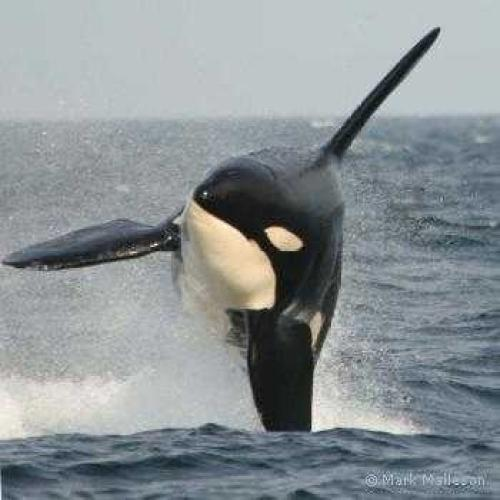killer_whale-endangered: (108, 51, 435, 436)
